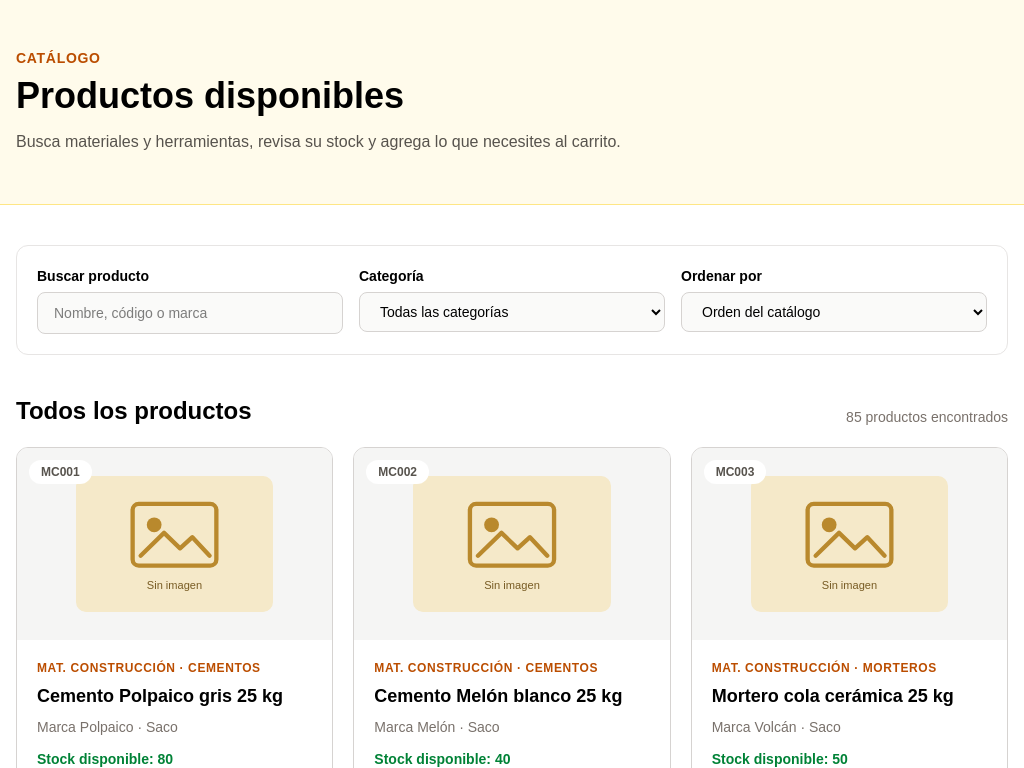
Test case: HU 5: filtros del catálogo › UT-07: muestra solo la categoría elegida e informa cuando la búsqueda no encuentra productos
Expected: the heading "Cemento Polpaico gris 25 kg" is shown, [37,684,312,709]
Select "Pinturas" in the dropdown labelled "Categoría" at (512, 312), box [359,292,665,332]
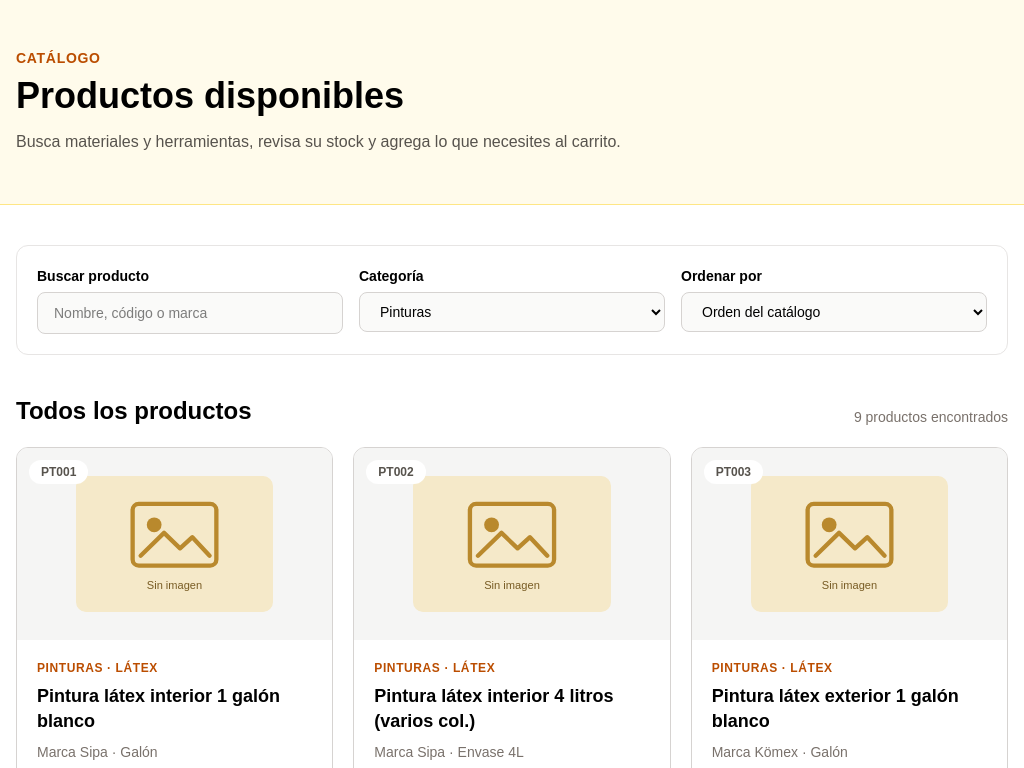
Now the link "Cemento Polpaico gris 25 kg" is gone
Type "sin coincidencias 123" into the search field labelled "Buscar producto" at (190, 313), box [37,292,343,334]
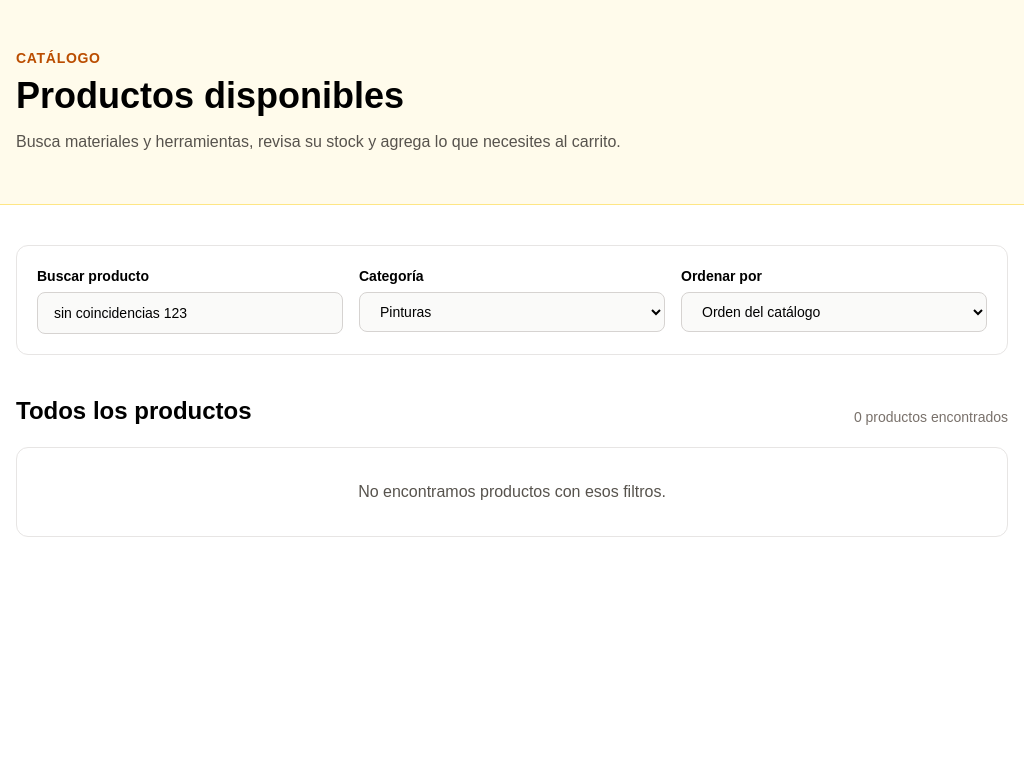
Now the text "No encontramos productos con esos filtros." is shown, box [16,447,1008,537]
